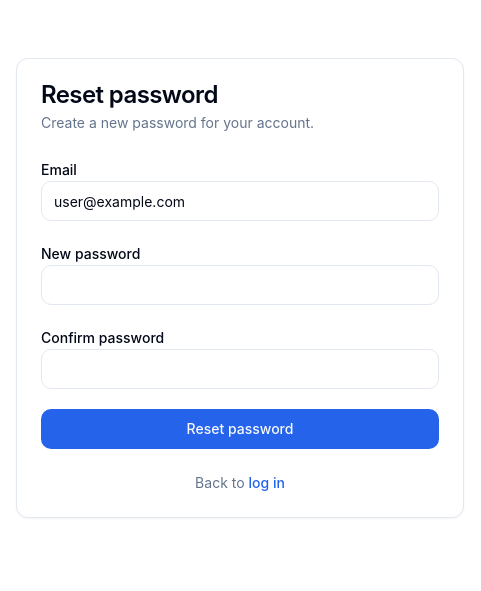
ResetPasswordPage › displays backend password validation errors
Type "short" into the password field labelled "New password". click: {"x": 240, "y": 285}
box: 41,265 -> 439,305
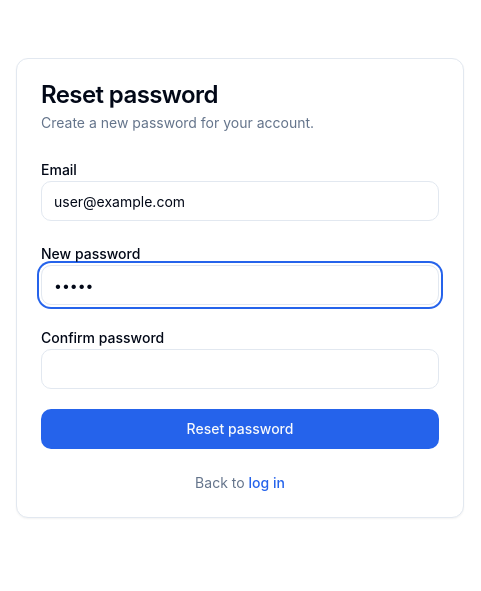
Type "short" into the password field labelled "Confirm password". click: {"x": 240, "y": 369}
box: 41,349 -> 439,389
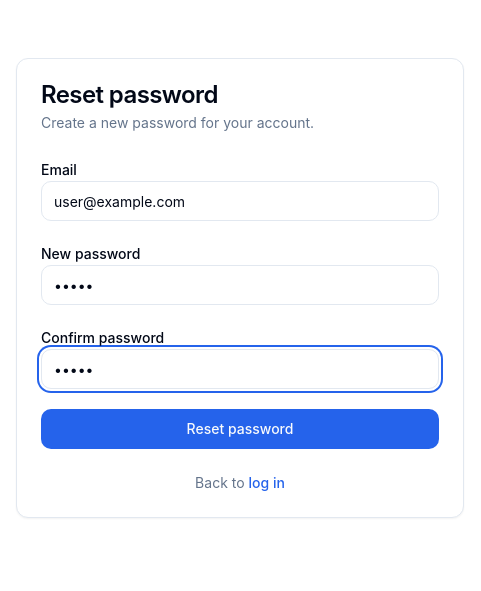
Click the button "Reset password". click: {"x": 240, "y": 429}
box: 41,409 -> 439,449
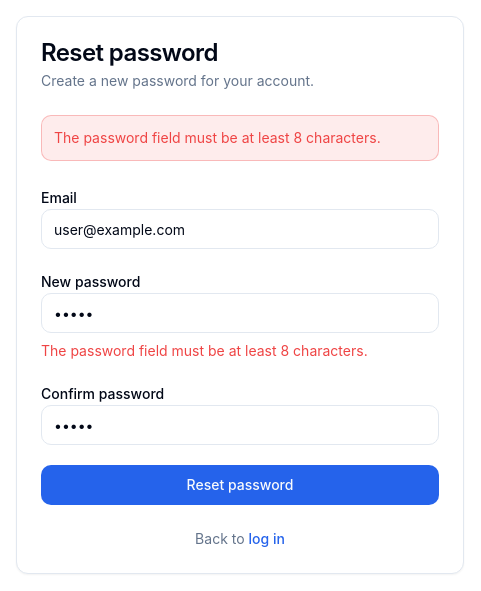
Now the message reads "The password field must be at least 8 characters.", box 54,129 -> 381,146
